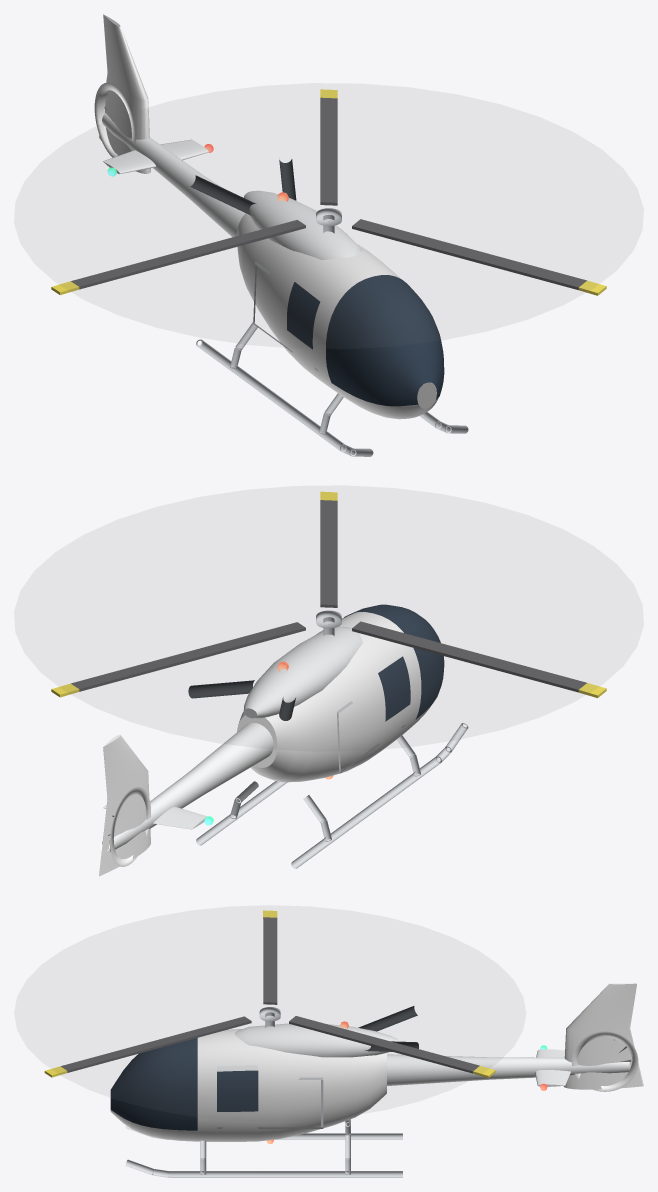
3 renders of one model, top to bottom at view 1: azimuth 30°, elevation 25°; view 2: azimuth 150°, elevation 25°; view 3: azimuth 270°, elevation 25°, orthographic. The views are drawn at different scales.
Parts seen in each view (by area): view 1: airframe, rotor; view 2: airframe, rotor; view 3: airframe, rotor.
Part boxes in pixels (<box>): airframe: <box>94,14,468,456</box>; rotor: <box>51,89,606,295</box>; airframe: <box>99,604,468,876</box>; rotor: <box>51,491,606,697</box>; airframe: <box>110,983,643,1177</box>; rotor: <box>44,910,495,1077</box>.
Size of the model in its own units: 10.7 by 4.03 by 13.15.
